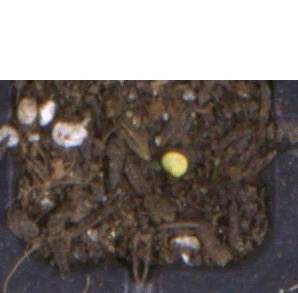chilli seed: (160, 151, 188, 177)
